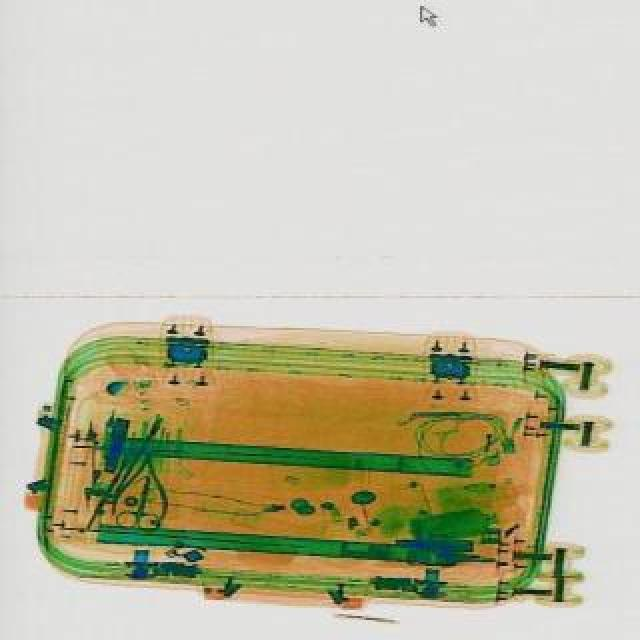pliers: (112, 470, 168, 534)
wrench: (108, 442, 176, 520)
